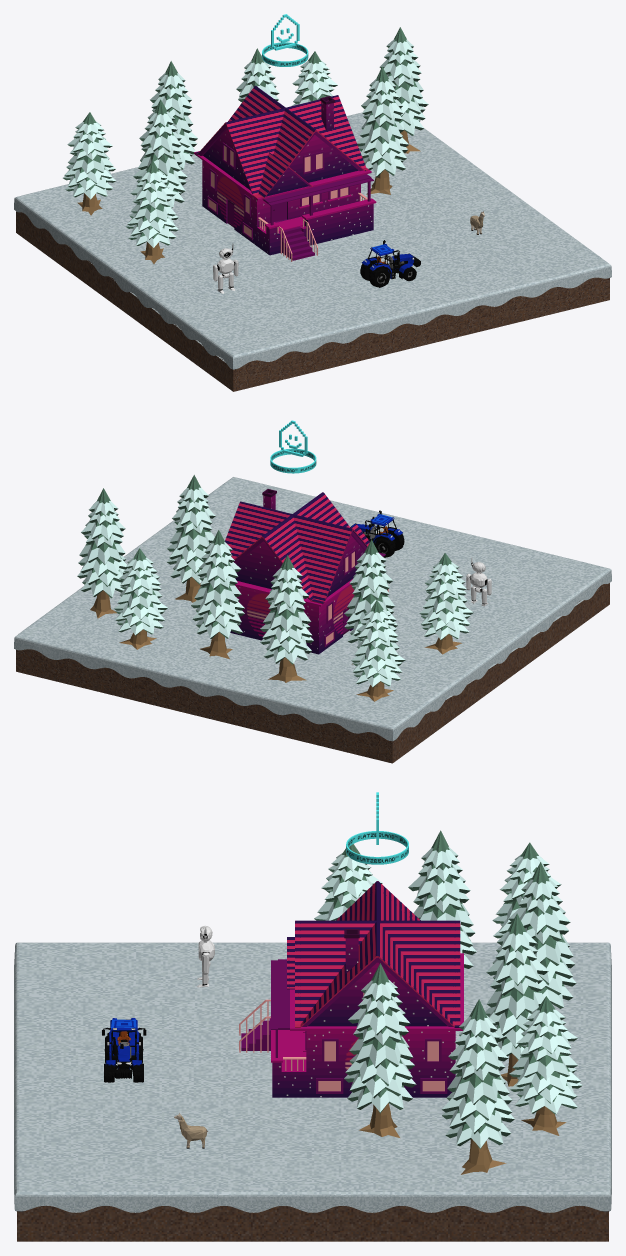
The picture shows the model from 3 angles, top to bottom: view 1: azimuth 30°, elevation 25°; view 2: azimuth 150°, elevation 25°; view 3: azimuth 270°, elevation 25°; orthographic projection. The views are drawn at different scales.
Parts seen in each view (by area): view 1: Cube.003, Cube.156, VEHICLES_TRACTOR, TYPE_PREMIUM, OBJRANDOM_PLATZEEBOT; view 2: Cube.003, Cube.156, VEHICLES_TRACTOR, TYPE_PREMIUM, OBJRANDOM_PLATZEEBOT; view 3: Cube.003, Cube.156, VEHICLES_TRACTOR, TYPE_PREMIUM, OBJRANDOM_PLATZEEBOT.
Part boxes in pixels (x1,y1,x2,y2): Cube.003: [14, 27, 611, 391]; Cube.156: [194, 85, 376, 261]; VEHICLES_TRACTOR: [360, 240, 420, 287]; TYPE_PREMIUM: [262, 14, 308, 66]; OBJRANDOM_PLATZEEBOT: [213, 243, 238, 293]; Cube.003: [14, 475, 611, 763]; Cube.156: [225, 489, 388, 654]; VEHICLES_TRACTOR: [350, 510, 404, 557]; TYPE_PREMIUM: [270, 420, 316, 473]; OBJRANDOM_PLATZEEBOT: [466, 557, 491, 606]; Cube.003: [14, 830, 611, 1241]; Cube.156: [239, 881, 463, 1097]; VEHICLES_TRACTOR: [102, 1018, 146, 1082]; TYPE_PREMIUM: [346, 792, 408, 864]; OBJRANDOM_PLATZEEBOT: [197, 925, 214, 987].
Size of the model in its own units: 4040 by 2440 by 4040.
30 materials, 6 textured.
